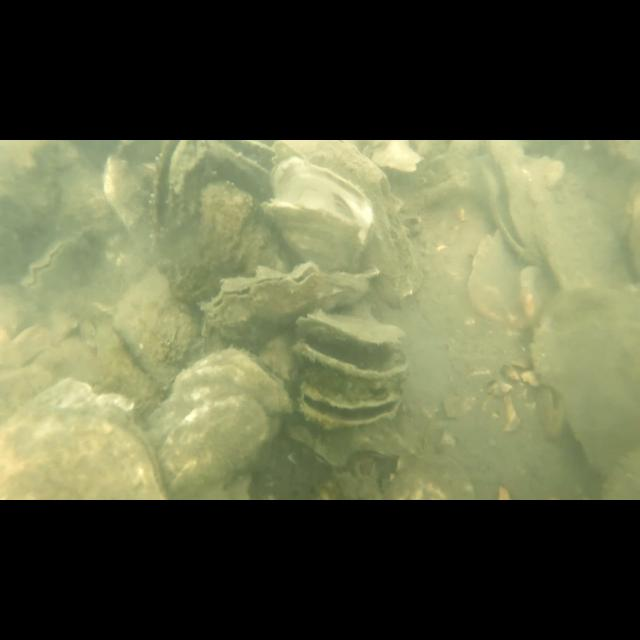Oyster-Closed: (531, 281, 640, 500), (276, 140, 422, 302), (150, 346, 288, 500), (1, 380, 166, 500), (113, 263, 207, 389), (194, 178, 294, 282), (103, 148, 165, 260)
Oyster-Open: (201, 259, 375, 345), (262, 158, 374, 264), (476, 140, 548, 264), (295, 312, 409, 380), (296, 368, 402, 430), (148, 140, 210, 244), (207, 140, 280, 207), (22, 234, 90, 296)
